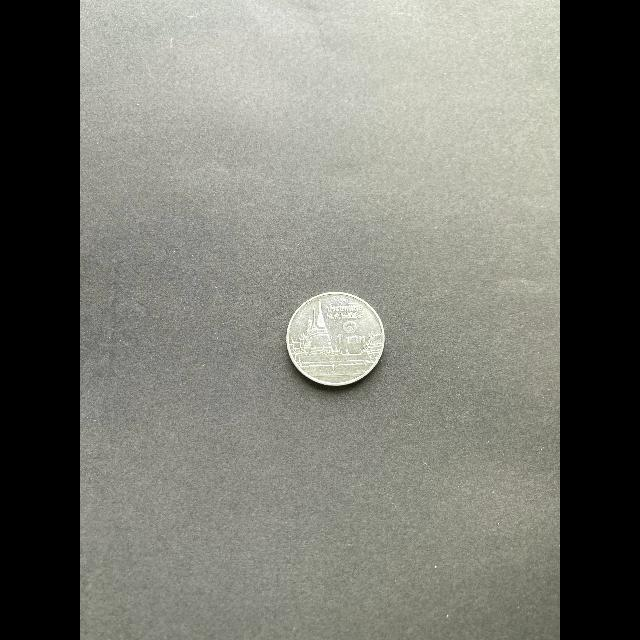1 Bath: (284, 289, 388, 393)
